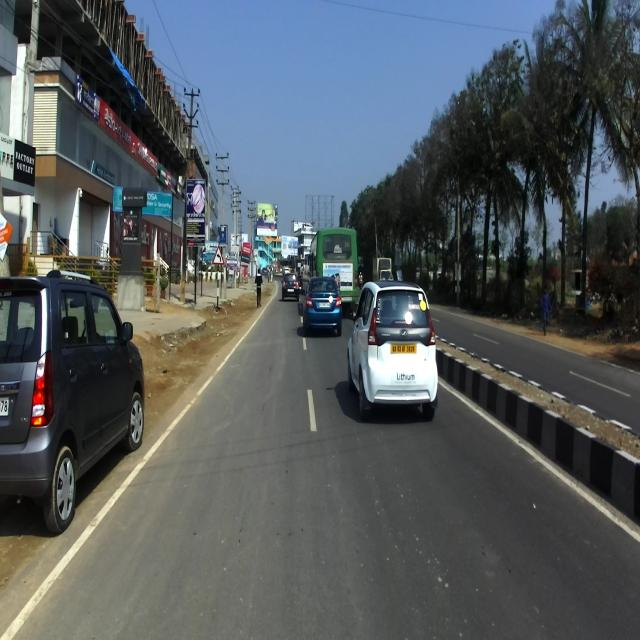Car_Mahindra: (348, 279, 438, 420)
Car_Maruti-Suzuki: (0, 268, 145, 535), (300, 276, 344, 337)
